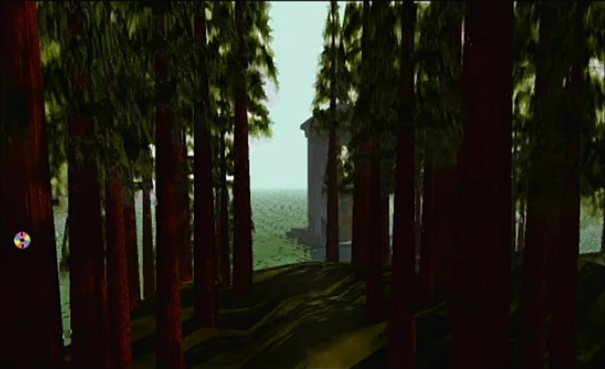Waiting: (9, 228, 35, 252)
